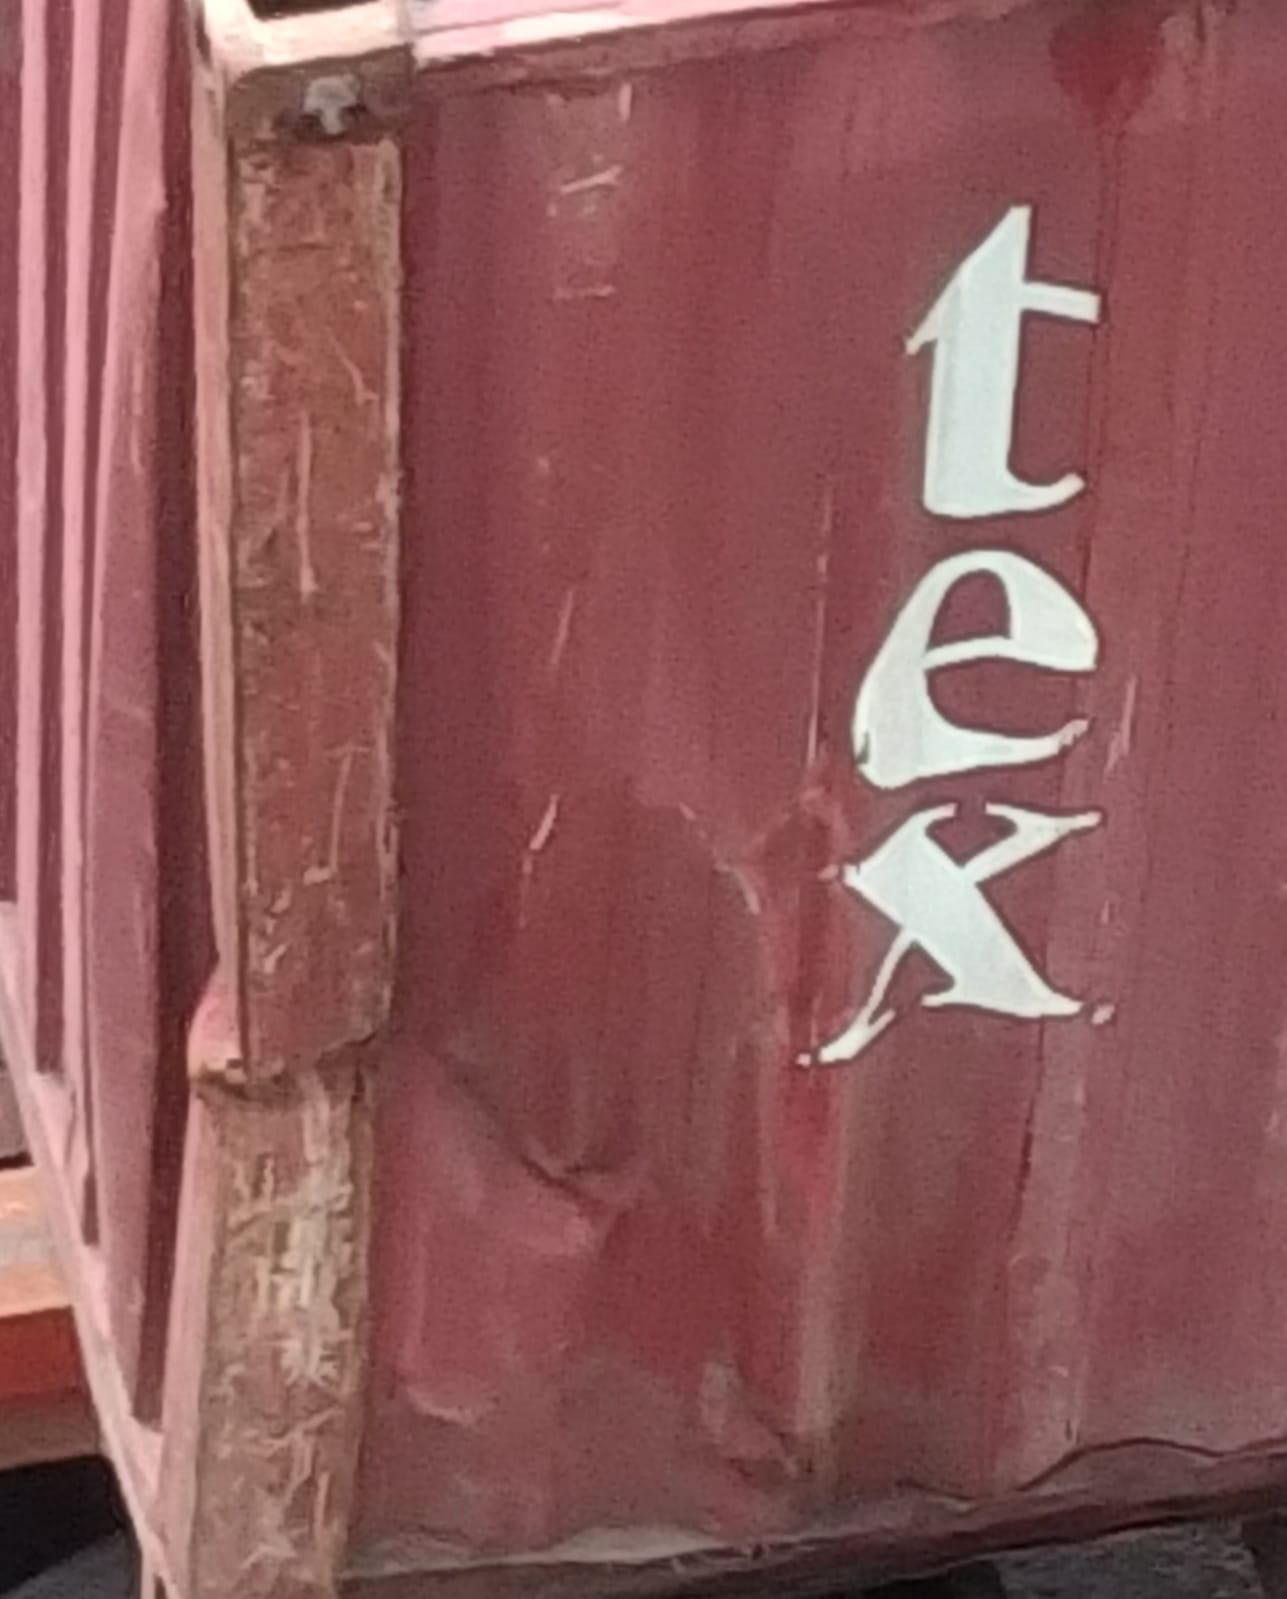dented: (126, 777, 625, 1498)
